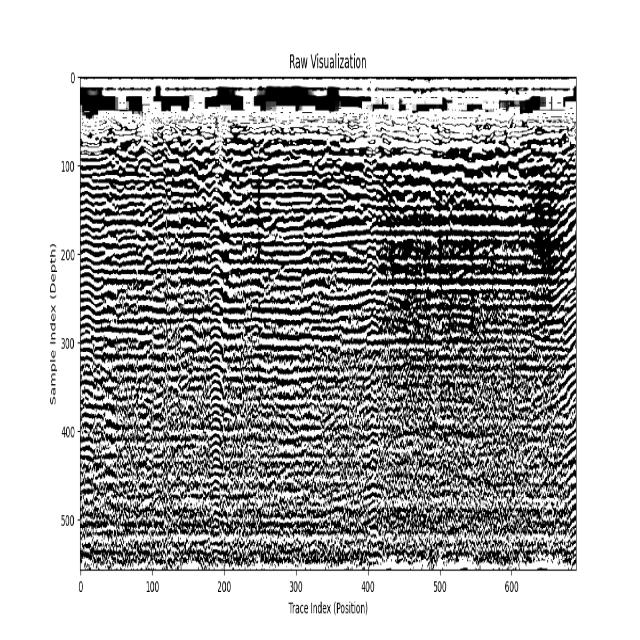anomaly: (367, 145, 382, 562), (210, 141, 223, 556)
